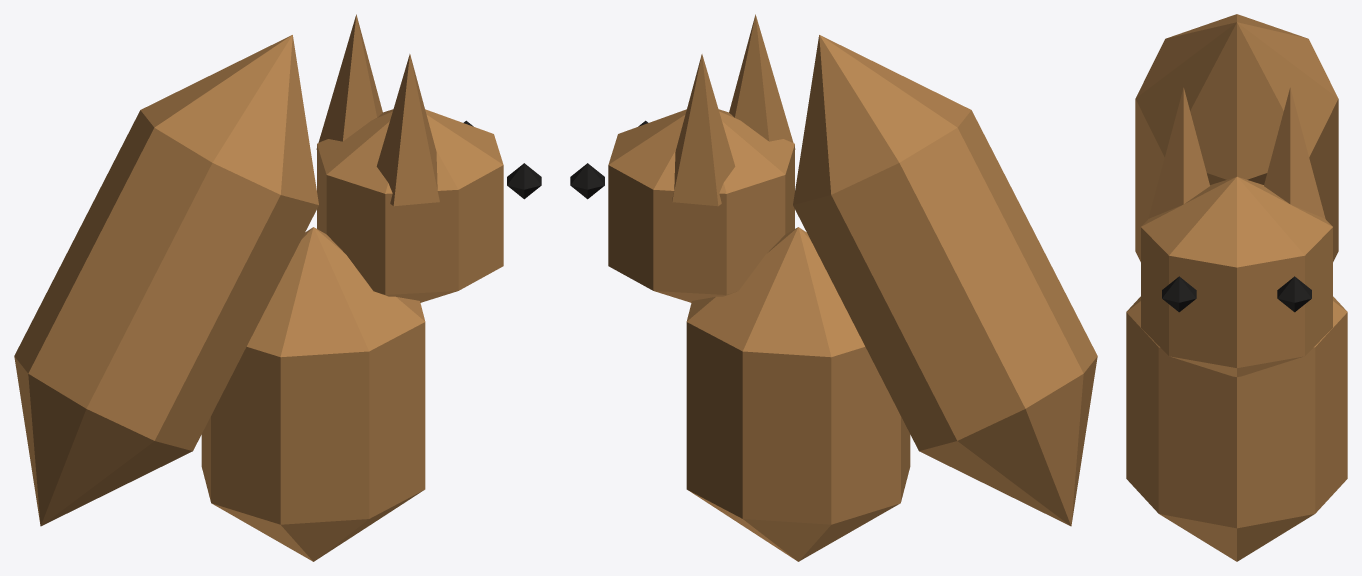
Rendered from squirrel.obj.
3 renders of one model, left to right at view 1: azimuth 30°, elevation 25°; view 2: azimuth 150°, elevation 25°; view 3: azimuth 270°, elevation 25°, orthographic.
Size of the model in its own units: 1.25 by 1.32 by 0.4988.
2 materials, 2 textured.
